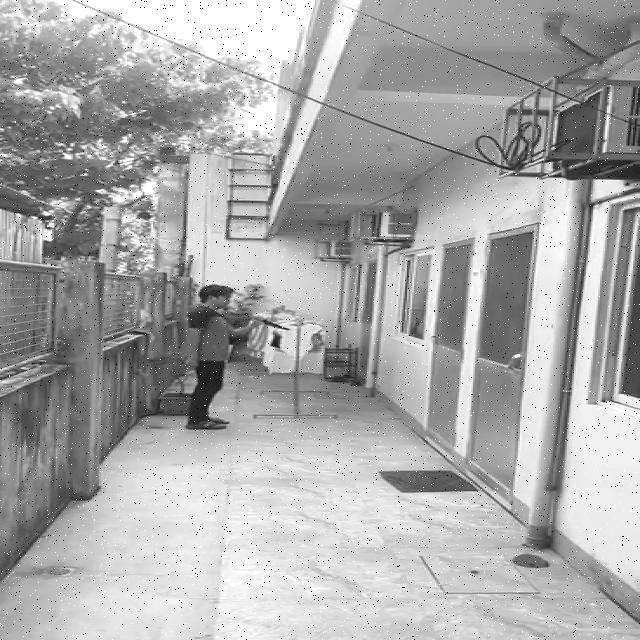knife: (252, 316, 290, 331)
non-violence: (184, 284, 288, 431)
